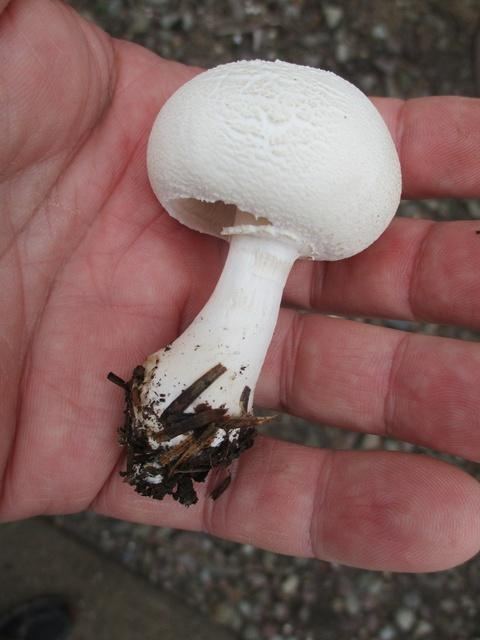poisonous_mushroom: (107, 56, 403, 506)
